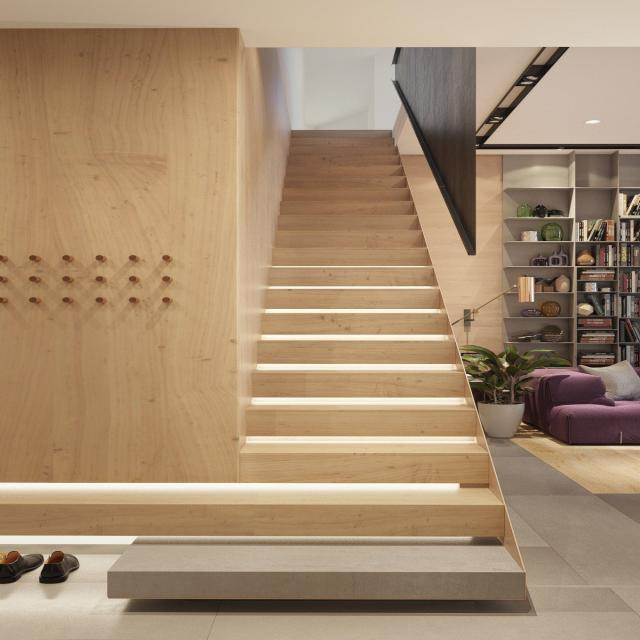stairs: (106, 130, 532, 610)
